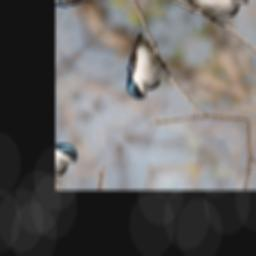Swallow: (101, 28, 181, 105)
